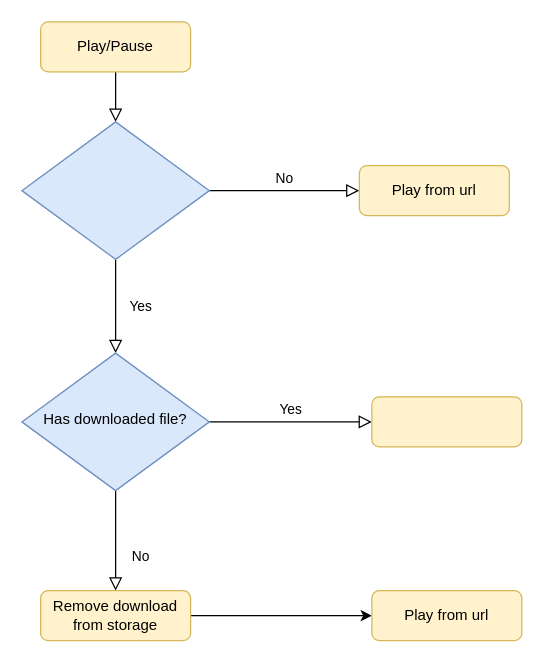
Some shapes in this 544 by 663 pixel diagram are drawn without their labels. Here are the shapes that lost their labels. From the top down, the centre of each, then its label:
the point at 115,190: Has saved download in storage?
the point at 446,421: Play from local file
